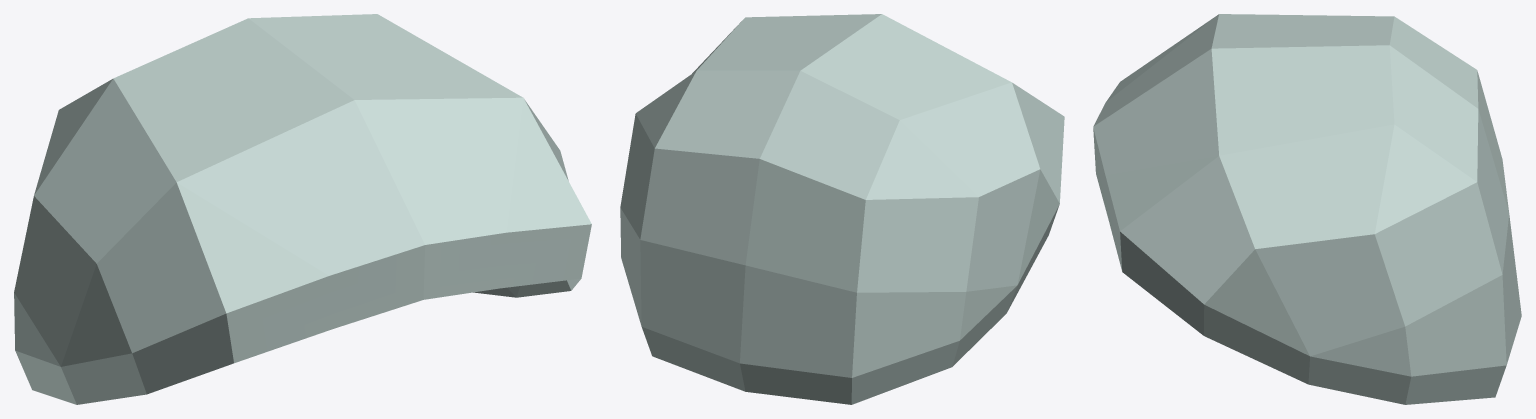
The model's file is Skier_2_Cap.fbx.
3 views of the same model, side by side, from view 1: azimuth 30°, elevation 25°; view 2: azimuth 150°, elevation 25°; view 3: azimuth 270°, elevation 25° (orthographic). The views are drawn at different scales.
Parts seen in each view (by area): view 1: Skier_2_Cap; view 2: Skier_2_Cap; view 3: Skier_2_Cap.
Boxes of the visible parts, <box> form: Skier_2_Cap: <box>14,14,591,404</box>; Skier_2_Cap: <box>620,14,1064,404</box>; Skier_2_Cap: <box>1093,14,1521,404</box>.
Size of the model in its own units: 22.76 by 16.91 by 21.45.
